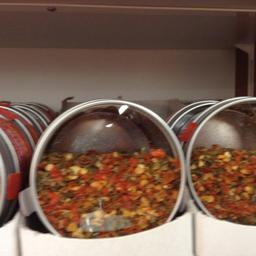spices: (26, 98, 184, 236), (186, 96, 255, 225)
